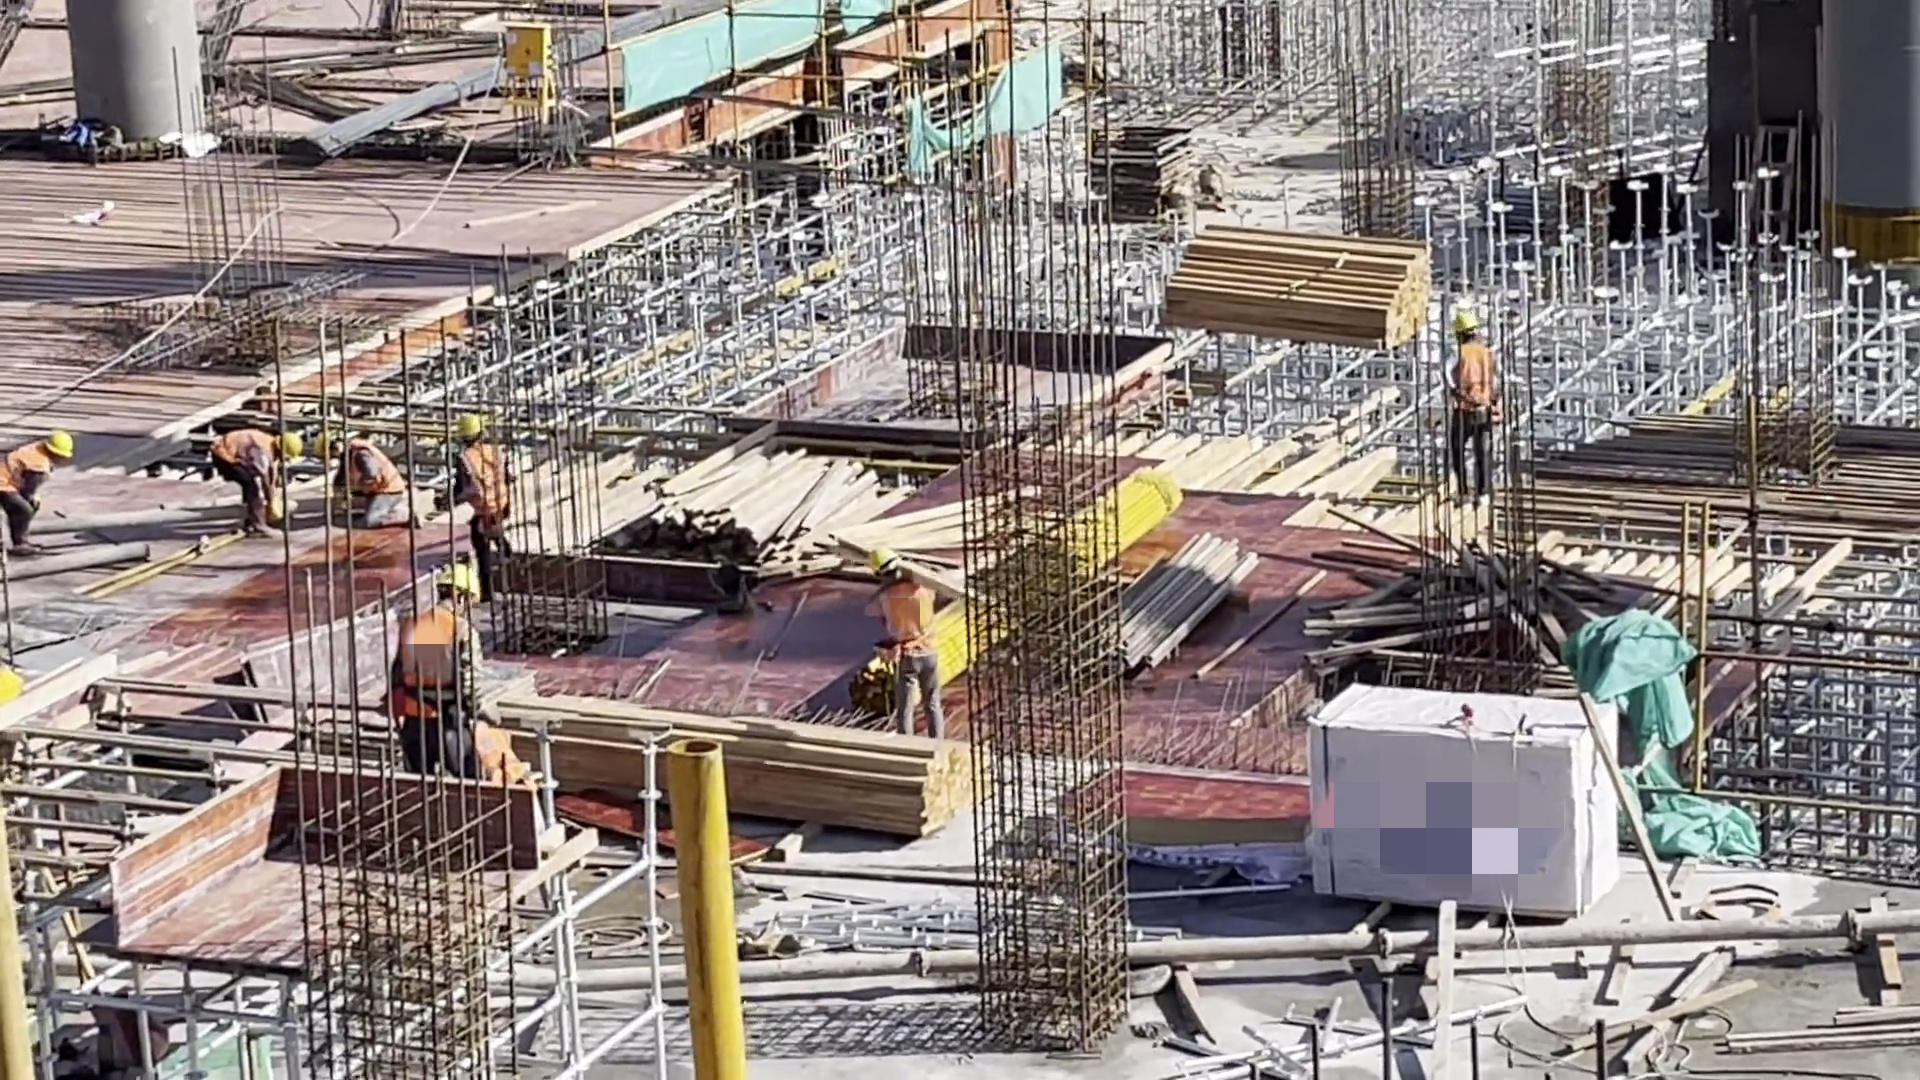ebox: (492, 14, 558, 87)
helmet: (415, 550, 476, 594), (40, 422, 92, 465), (1445, 305, 1485, 349), (856, 541, 901, 574), (443, 401, 481, 437), (274, 420, 304, 461), (305, 422, 332, 458)
person: (854, 530, 956, 755), (405, 577, 493, 771), (1434, 307, 1503, 488), (321, 426, 426, 536), (462, 414, 533, 575), (205, 409, 306, 521), (1, 411, 76, 551)
vest: (392, 615, 492, 711), (875, 584, 946, 663), (447, 437, 513, 505), (1446, 351, 1505, 408), (215, 432, 283, 480), (337, 443, 402, 491), (4, 448, 57, 499)
wood: (1169, 221, 1430, 352), (657, 443, 912, 555)
